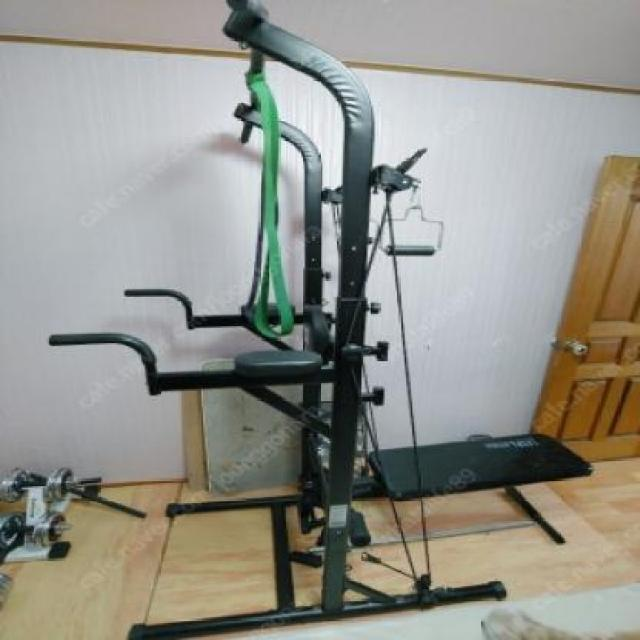chinning dipping: (48, 0, 382, 640)
